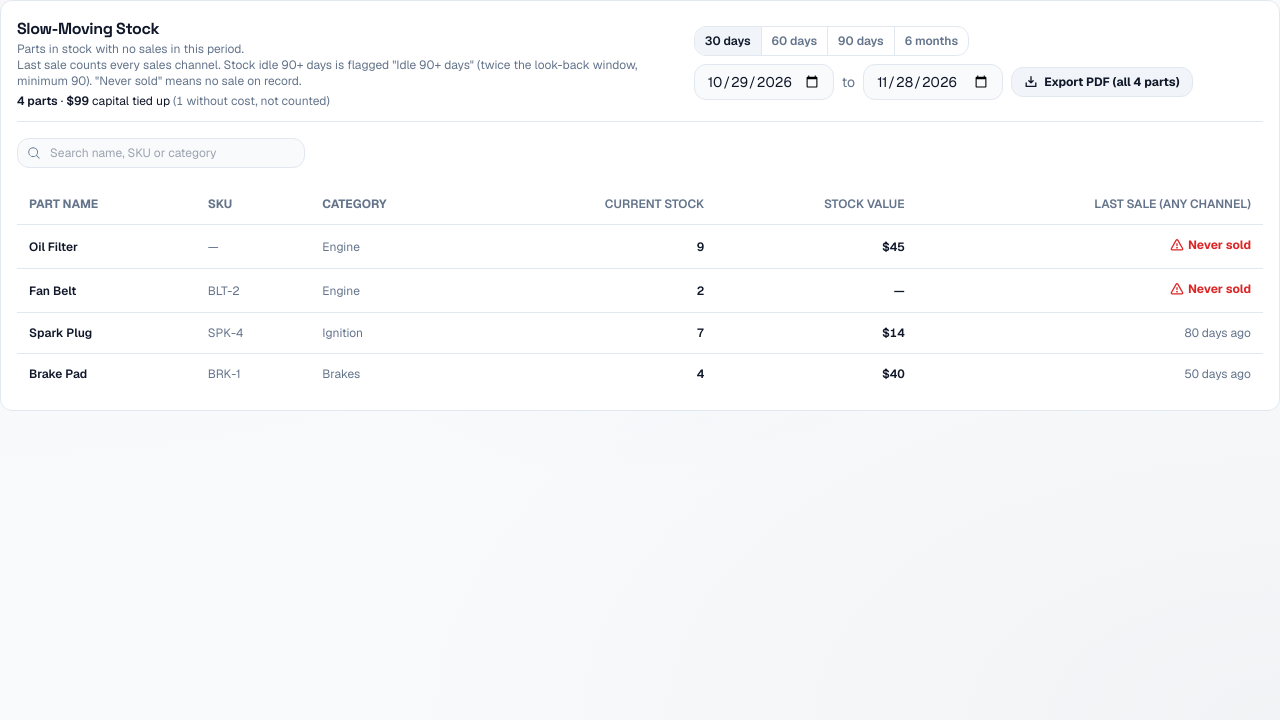
it: Slow-moving stock: empty states › gives a search-specific message
The image size is (1280, 720).
Type "zzz" into the search field named "Search parts" at (161,153), box [17,138,305,168]
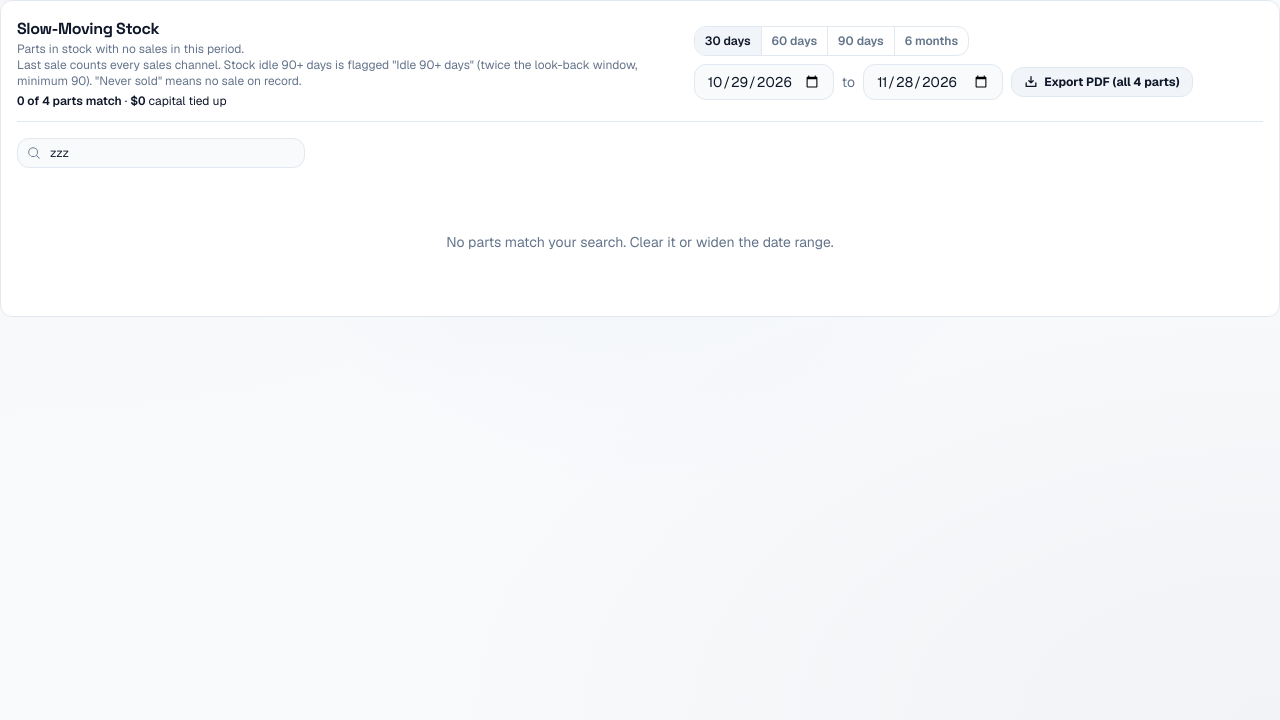
Now the text "No parts match your search" is shown, box [446,233,834,251]
